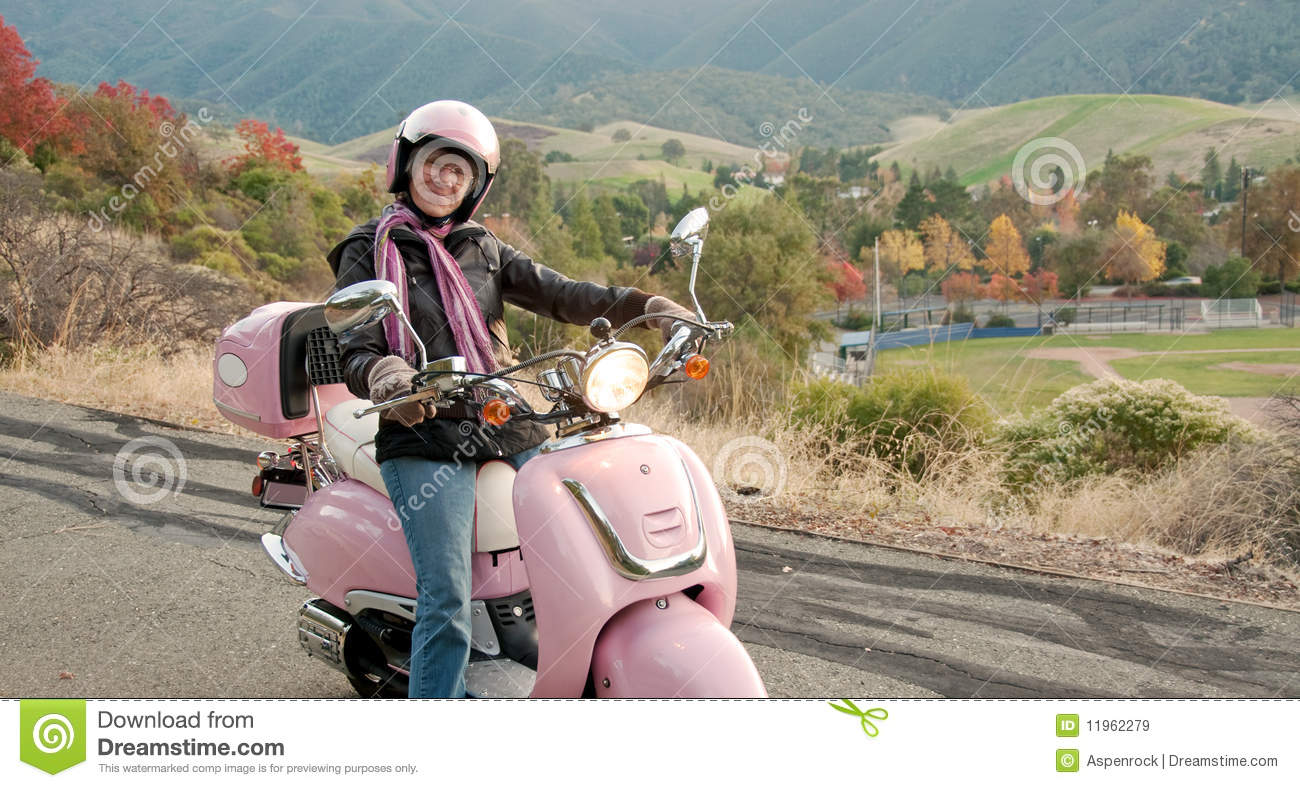helmet: (388, 109, 499, 212)
